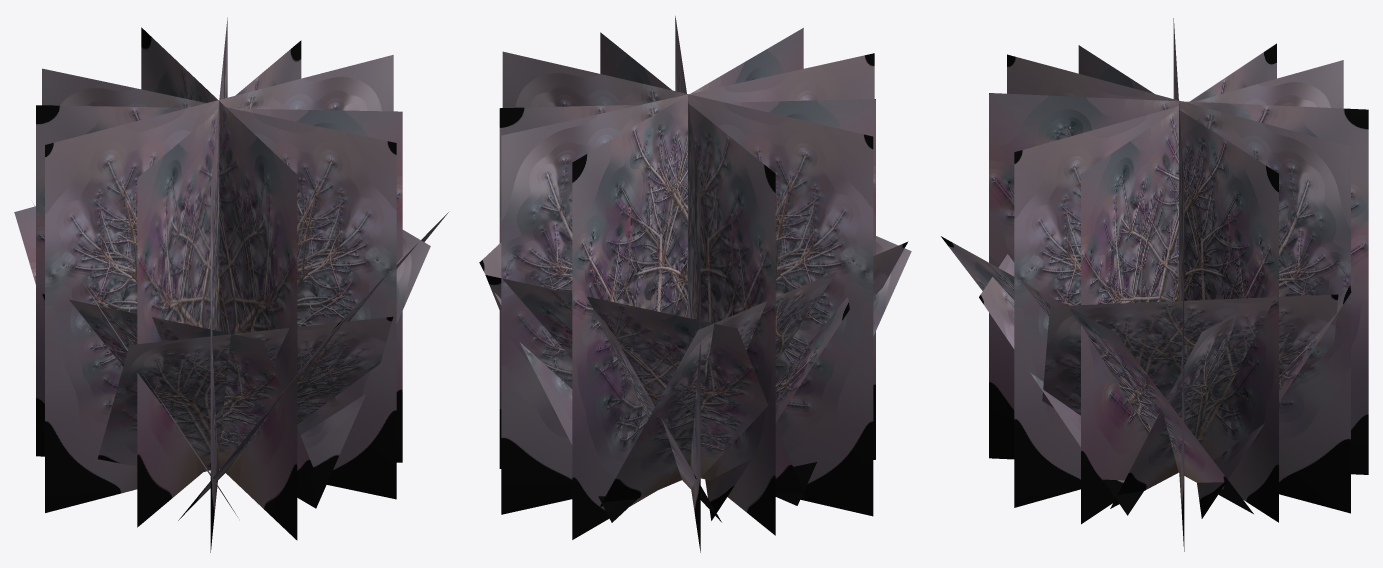
Rendered from viburnum_bush_bare.glb.
3 views of the same model, side by side, from view 1: azimuth 30°, elevation 25°; view 2: azimuth 150°, elevation 25°; view 3: azimuth 270°, elevation 25° (orthographic). The views are drawn at different scales.
Parts seen in each view (by area): view 1: viburnum_bush_bare; view 2: viburnum_bush_bare; view 3: viburnum_bush_bare.
Part boxes in pixels (box(x1,y1,x2,y2)): viburnum_bush_bare: box(14, 17, 448, 552); viburnum_bush_bare: box(479, 16, 911, 552); viburnum_bush_bare: box(941, 18, 1368, 551).
Size of the model in its own units: 2.87 by 2.68 by 2.83.
Materials: 1 (1 with a texture image).
